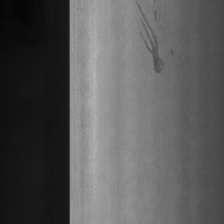water_spot: (129, 0, 176, 84)
